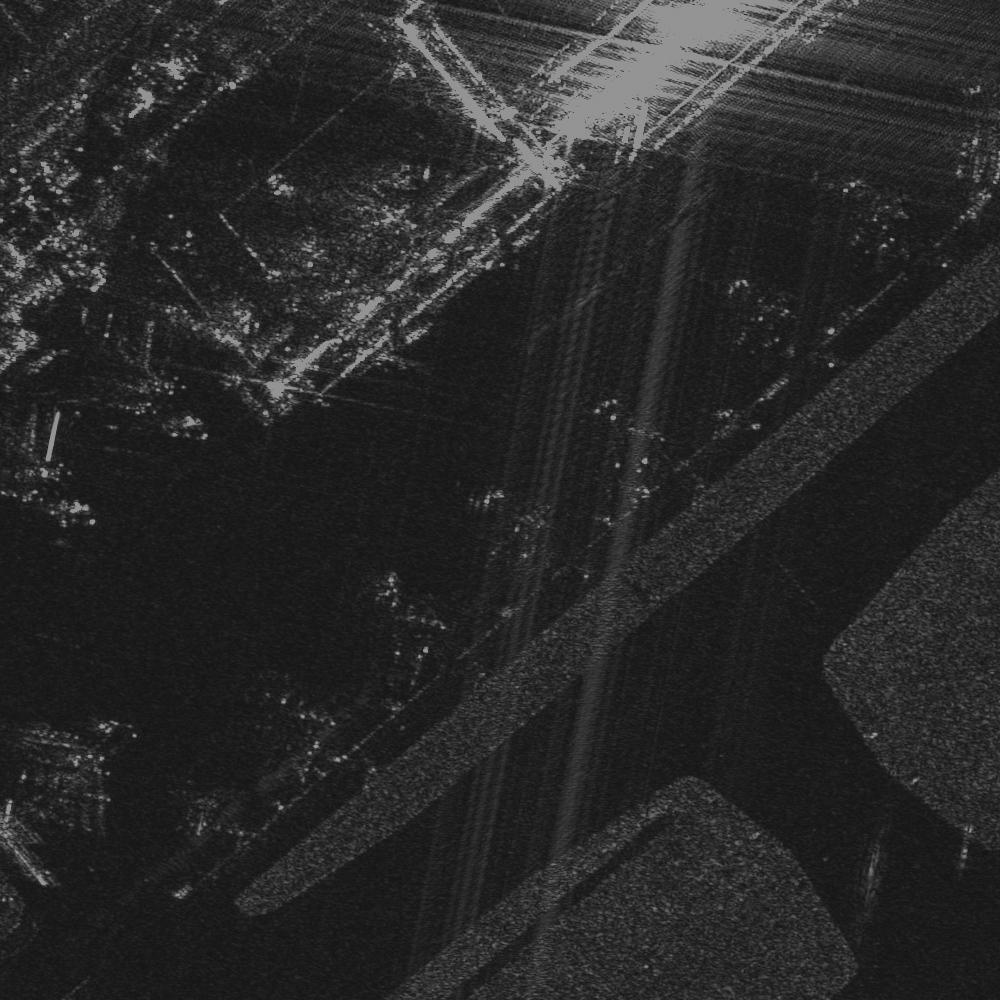Boeing787: (368, 560, 461, 664), (92, 315, 186, 395), (1, 401, 70, 497)
other: (13, 714, 139, 836), (239, 657, 344, 770), (584, 379, 681, 487), (465, 479, 565, 574), (713, 263, 807, 362), (832, 172, 924, 265)
